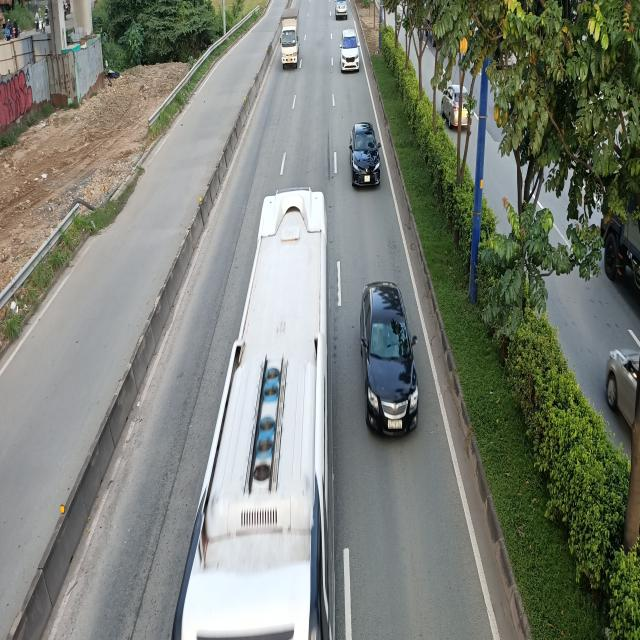car: (358, 281, 418, 434), (349, 120, 383, 188), (340, 29, 361, 72)
coach: (170, 191, 334, 640)
truck: (279, 4, 300, 69)
